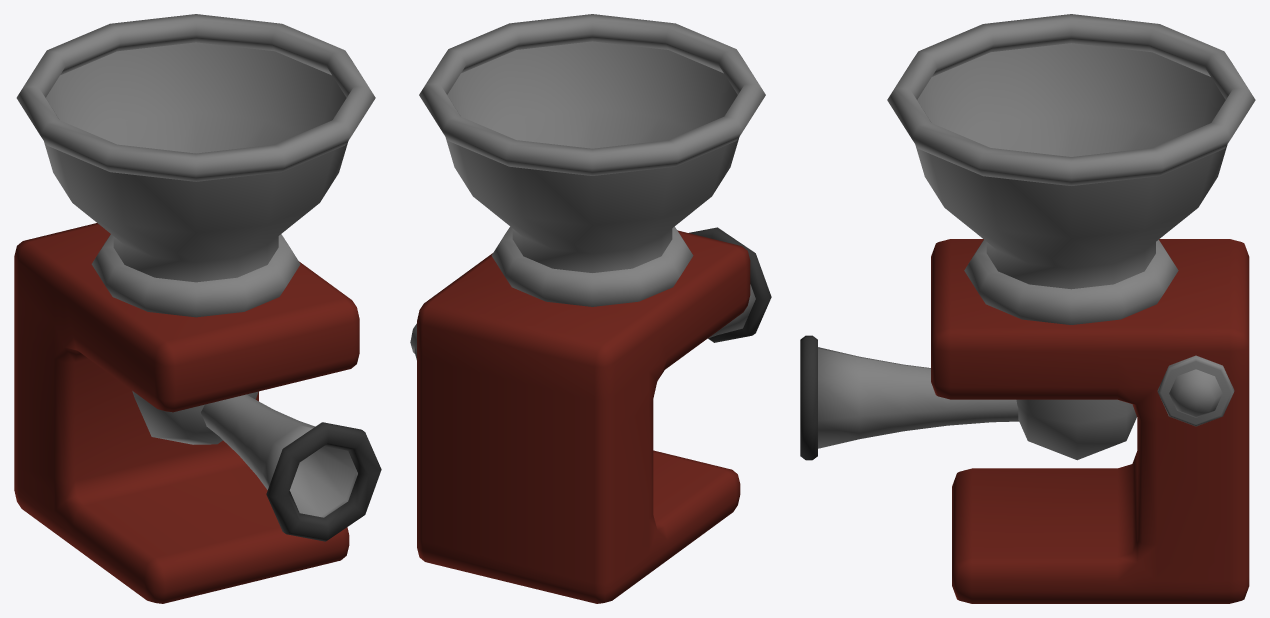
Rendered from Turret_01.fbx.
3 views of the same model, side by side, from view 1: azimuth 30°, elevation 25°; view 2: azimuth 150°, elevation 25°; view 3: azimuth 270°, elevation 25° (orthographic). The views are drawn at different scales.
Parts seen in each view (by area): view 1: Shape004; view 2: Shape004; view 3: Shape004.
Boxes of the visible parts, x1=… form: Shape004: x1=14, y1=14, x2=381, y2=603; Shape004: x1=410, y1=14, x2=771, y2=603; Shape004: x1=800, y1=14, x2=1255, y2=603.
Size of the model in its own units: 39.52 by 55.7 by 48.83.
Materials: 2 (1 with a texture image).
